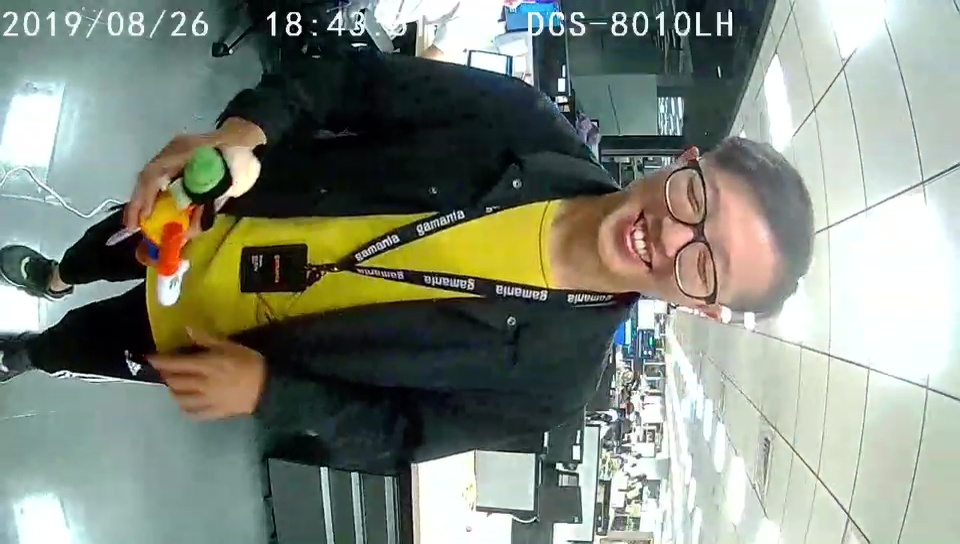goofy: (125, 142, 259, 304)
